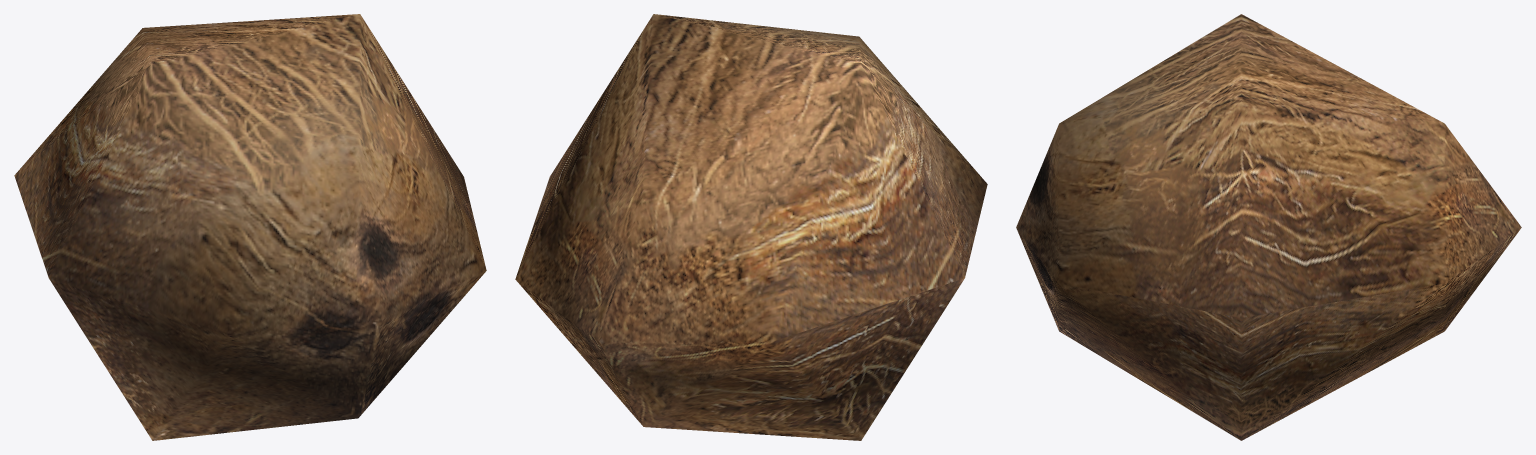
The model's file is Coconut_LOD1.fbx.
3 views of the same model, side by side, from view 1: azimuth 30°, elevation 25°; view 2: azimuth 150°, elevation 25°; view 3: azimuth 270°, elevation 25° (orthographic). The views are drawn at different scales.
Parts seen in each view (by area): view 1: pSphere2; view 2: pSphere2; view 3: pSphere2.
Part boxes in pixels (left/top/right/bottom): pSphere2: left=14, top=14, right=486, bottom=440; pSphere2: left=515, top=14, right=987, bottom=440; pSphere2: left=1016, top=14, right=1521, bottom=440.
Size of the model in its own units: 0.4647 by 0.4024 by 0.5483.
